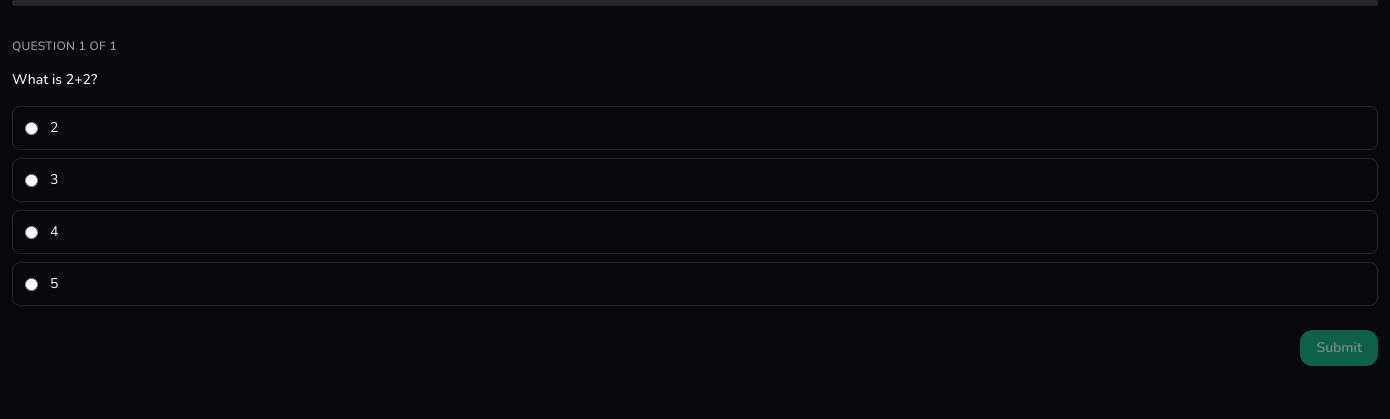
PracticeProblemRunner › shows incorrect feedback after selecting wrong answer
The image size is (1390, 419).
What coordinates should you click on to do the following:
click the radio button labelled "2"
I would click on:
 (32, 128)
Its box is top-left (25, 122), bottom-right (38, 134).
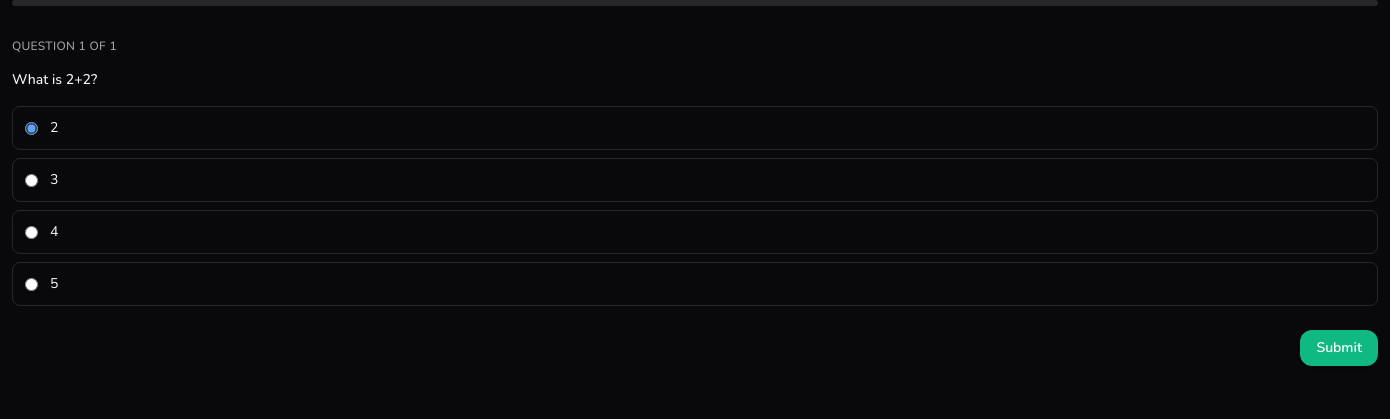
What coordinates should you click on to do the following:
click the button "Submit"
I would click on:
 (1339, 348)
Its box is top-left (1300, 330), bottom-right (1378, 366).
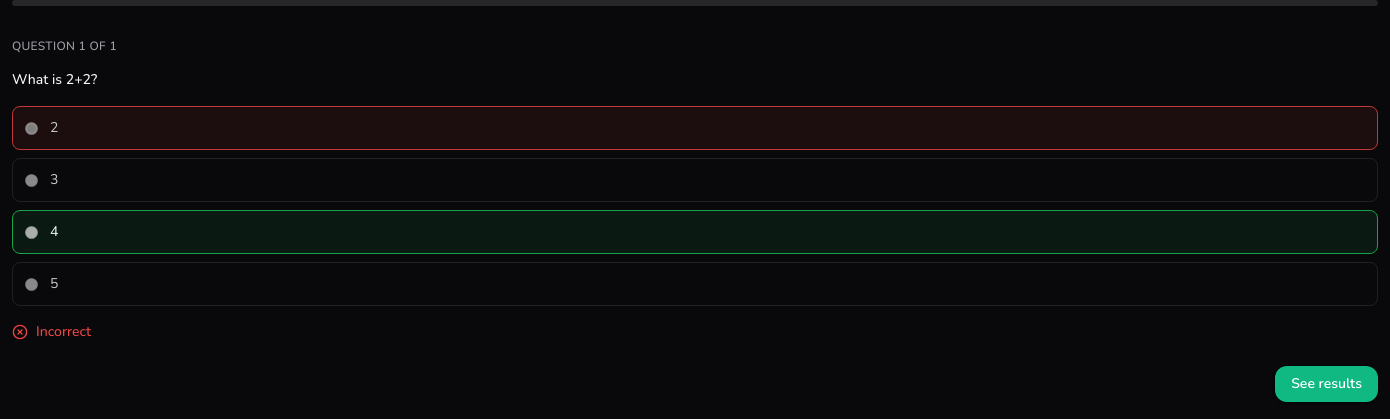
Result: the text "Incorrect" is shown at top-left (12, 322), bottom-right (91, 341)
